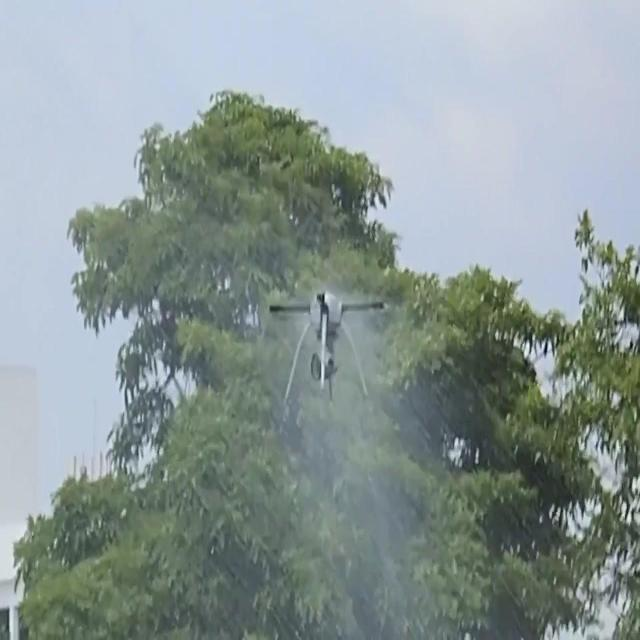drone: (269, 284, 386, 402)
